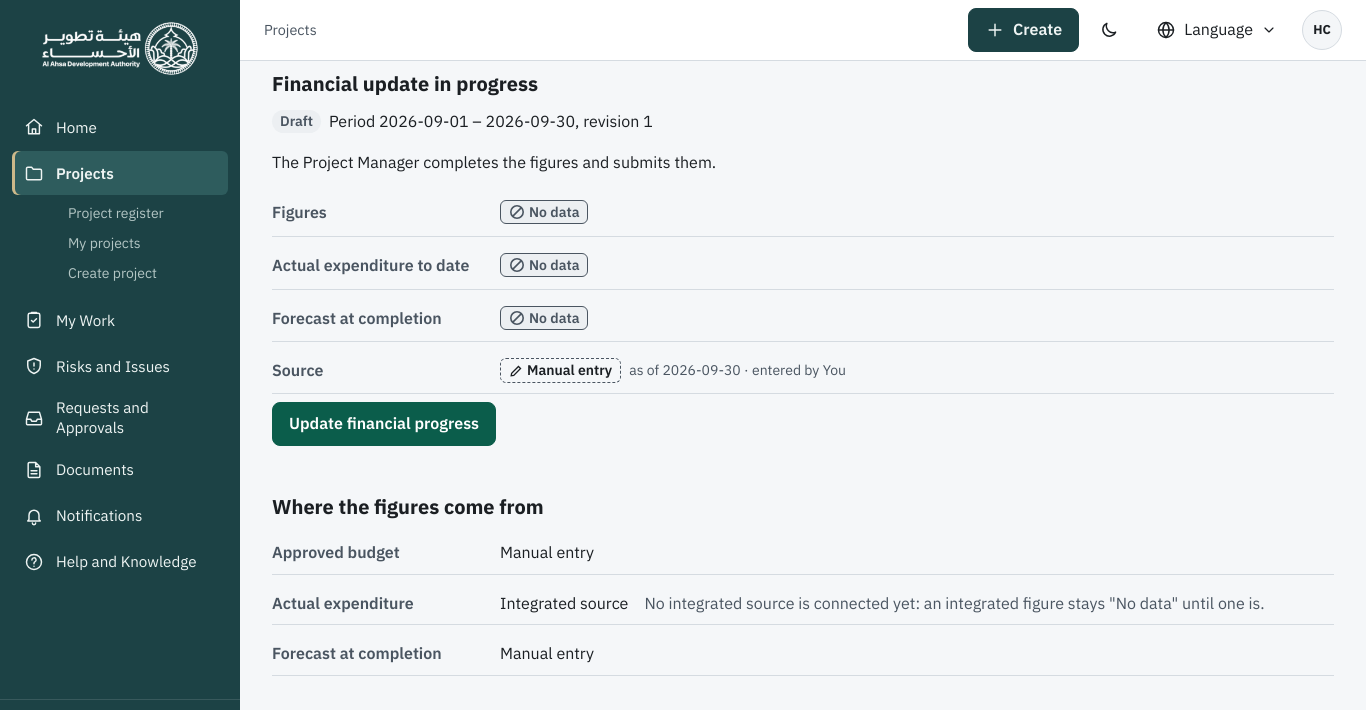
it: MOD-023 Update Financial Progress › an INTEGRATED actual cannot be measured by hand: only the reasons for no figure are offered
The image size is (1366, 710).
(page scrolled)
Click the button "Update financial progress" at coordinates (384, 424), box [272, 402, 496, 446]
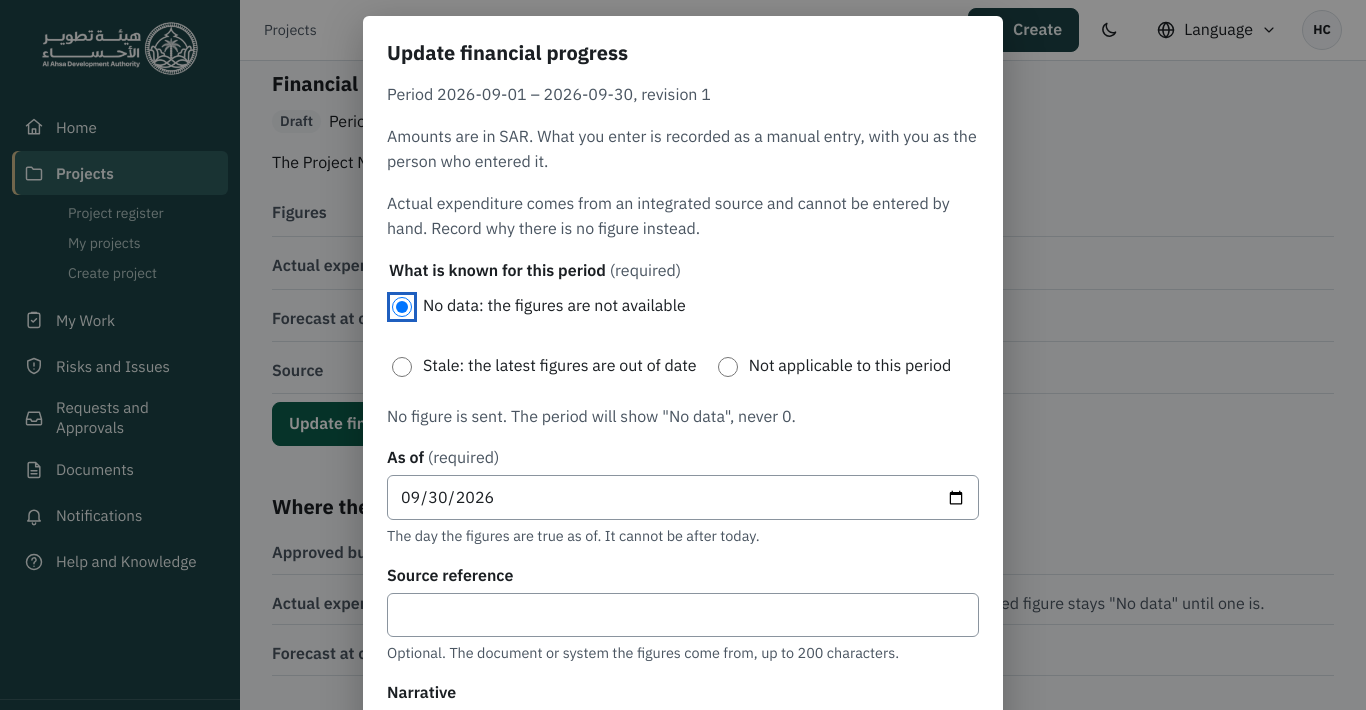
Expected: the text "Actual expenditure comes from an integrated source and cannot be entered by hand. Record why there is no figure instead." is shown, [387, 193, 950, 238]
